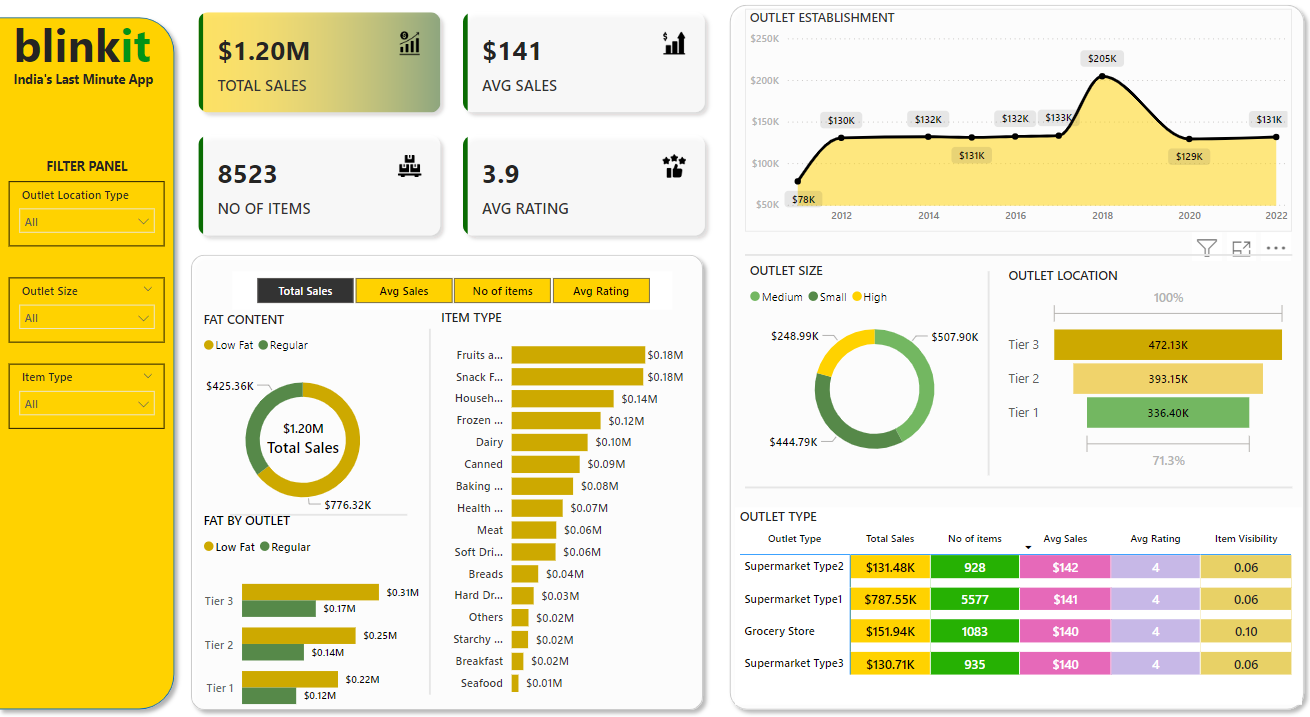

What the dashboard file says about the page in this screenshot:
{"tool":"powerbi","page":{"name":"Page 1","canvas":[1400,800],"ordinal":0},"visuals":[{"type":"shape","box":[0,25.5,204.1,750.4],"z":0},{"type":"textbox","box":[19.5,25.5,165.1,75],"z":1000},{"type":"textbox","box":[19.5,85.5,168.1,31.5],"z":2000},{"type":"cardVisual","fields":{"Data":["BlinkIT Grocery Data.Total Sales","BlinkIT Grocery Data.Avg Sales","BlinkIT Grocery Data.No of items","BlinkIT Grocery Data.Avg Rating"]},"box":[204.1,12,570.3,270.2],"z":3000},{"type":"shape","box":[204.1,276.2,559.8,499.8],"z":4000},{"type":"donutChart","title":"FAT CONTENT","fields":{"Y":["BlinkIT Grocery Data.Total Sales"],"Category":["BlinkIT Grocery Data.Item Fat Content"]},"box":[220.6,343.7,220.6,229.6],"z":5000},{"type":"slicer","title":"FAT CONTENT","fields":{"Values":["metrics.metrics"]},"box":[256.6,303.2,465.3,40.5],"z":6000},{"type":"cardVisual","fields":{"Data":["BlinkIT Grocery Data.Total Sales"]},"box":[270.2,442.8,123.1,60],"z":7000},{"type":"clusteredBarChart","title":"FAT BY OUTLET","fields":{"Y":["BlinkIT Grocery Data.Total Sales"],"Category":["BlinkIT Grocery Data.Outlet Location Type"],"Series":["BlinkIT Grocery Data.Item Fat Content"]},"box":[220.6,556.8,238.6,229.6],"z":8000},{"type":"shape","box":[253.6,556.8,187.6,7.5],"z":9000},{"type":"shape","box":[450.3,363.2,31.5,387.2],"z":10000},{"type":"barChart","title":"ITEM TYPE","fields":{"Y":["BlinkIT Grocery Data.Total Sales"],"Category":["BlinkIT Grocery Data.Item Type"]},"box":[472.8,342.2,267.2,420.2],"z":11000},{"type":"shape","box":[774.4,12,625.9,763.9],"z":12000},{"type":"lineChart","title":"OUTLET ESTABLISHMENT","fields":{"Category":["BlinkIT Grocery Data.Outlet Establishment Year"],"Y":["BlinkIT Grocery Data.Total Sales"]},"box":[798.5,25.5,579.3,235.6],"z":13000},{"type":"shape","box":[798.5,526.8,579.3,10.5],"z":14000},{"type":"donutChart","title":"OUTLET SIZE","fields":{"Category":["BlinkIT Grocery Data.Outlet Size"],"Y":["BlinkIT Grocery Data.Total Sales"]},"box":[798.5,292.7,274.7,225.1],"z":15000},{"type":"shape","box":[1041.6,303.2,31.5,216.1],"z":16000},{"type":"funnel","title":"OUTLET LOCATION","fields":{"Y":["Sum(BlinkIT Grocery Data.Sales)"],"Category":["BlinkIT Grocery Data.Outlet Location Type"]},"box":[1073.1,297.2,304.7,220.6],"z":17000},{"type":"shape","box":[798.5,280.7,579.3,10.5],"z":18000},{"type":"pivotTable","title":"OUTLET TYPE","fields":{"Rows":["BlinkIT Grocery Data.Outlet Type"],"Values":["BlinkIT Grocery Data.Total Sales","BlinkIT Grocery Data.No of items","BlinkIT Grocery Data.Avg Sales","BlinkIT Grocery Data.Avg Rating","Avg(BlinkIT Grocery Data.Item Visibility)"]},"box":[788,552.3,600.3,208.6],"z":19000},{"type":"slicer","fields":{"Values":["BlinkIT Grocery Data.Outlet Location Type"]},"box":[19.5,207.1,165.1,69],"z":20000},{"type":"slicer","fields":{"Values":["BlinkIT Grocery Data.Outlet Size"]},"box":[19.5,309.2,165.1,69],"z":21000},{"type":"slicer","fields":{"Values":["BlinkIT Grocery Data.Item Type"]},"box":[19.5,400.7,165.1,69],"z":22000},{"type":"textbox","box":[19.5,177.1,165.1,30],"z":23000}]}

Visuals, with their boxes on the page's 1400x800 design canvas (x1, y1, x2, y2). These are canvas units, not pixel positions in the 1310x717 screenshot, which may show the page scaled, cropped or inside an application window:
shape: left=0, top=26, right=204, bottom=776
textbox: left=20, top=26, right=185, bottom=100
textbox: left=20, top=86, right=188, bottom=117
cardVisual - BlinkIT Grocery Data.Total Sales x BlinkIT Grocery Data.Avg Sales: left=204, top=12, right=774, bottom=282
shape: left=204, top=276, right=764, bottom=776
"FAT CONTENT" donutChart: left=221, top=344, right=441, bottom=573
"FAT CONTENT" slicer: left=257, top=303, right=722, bottom=344
cardVisual - BlinkIT Grocery Data.Total Sales: left=270, top=443, right=393, bottom=503
"FAT BY OUTLET" clusteredBarChart: left=221, top=557, right=459, bottom=786
shape: left=254, top=557, right=441, bottom=564
shape: left=450, top=363, right=482, bottom=750
"ITEM TYPE" barChart: left=473, top=342, right=740, bottom=762
shape: left=774, top=12, right=1400, bottom=776
"OUTLET ESTABLISHMENT" lineChart: left=798, top=26, right=1378, bottom=261
shape: left=798, top=527, right=1378, bottom=537
"OUTLET SIZE" donutChart: left=798, top=293, right=1073, bottom=518
shape: left=1042, top=303, right=1073, bottom=519
"OUTLET LOCATION" funnel: left=1073, top=297, right=1378, bottom=518
shape: left=798, top=281, right=1378, bottom=291
"OUTLET TYPE" pivotTable: left=788, top=552, right=1388, bottom=761
slicer - BlinkIT Grocery Data.Outlet Location Type: left=20, top=207, right=185, bottom=276
slicer - BlinkIT Grocery Data.Outlet Size: left=20, top=309, right=185, bottom=378
slicer - BlinkIT Grocery Data.Item Type: left=20, top=401, right=185, bottom=470
textbox: left=20, top=177, right=185, bottom=207
